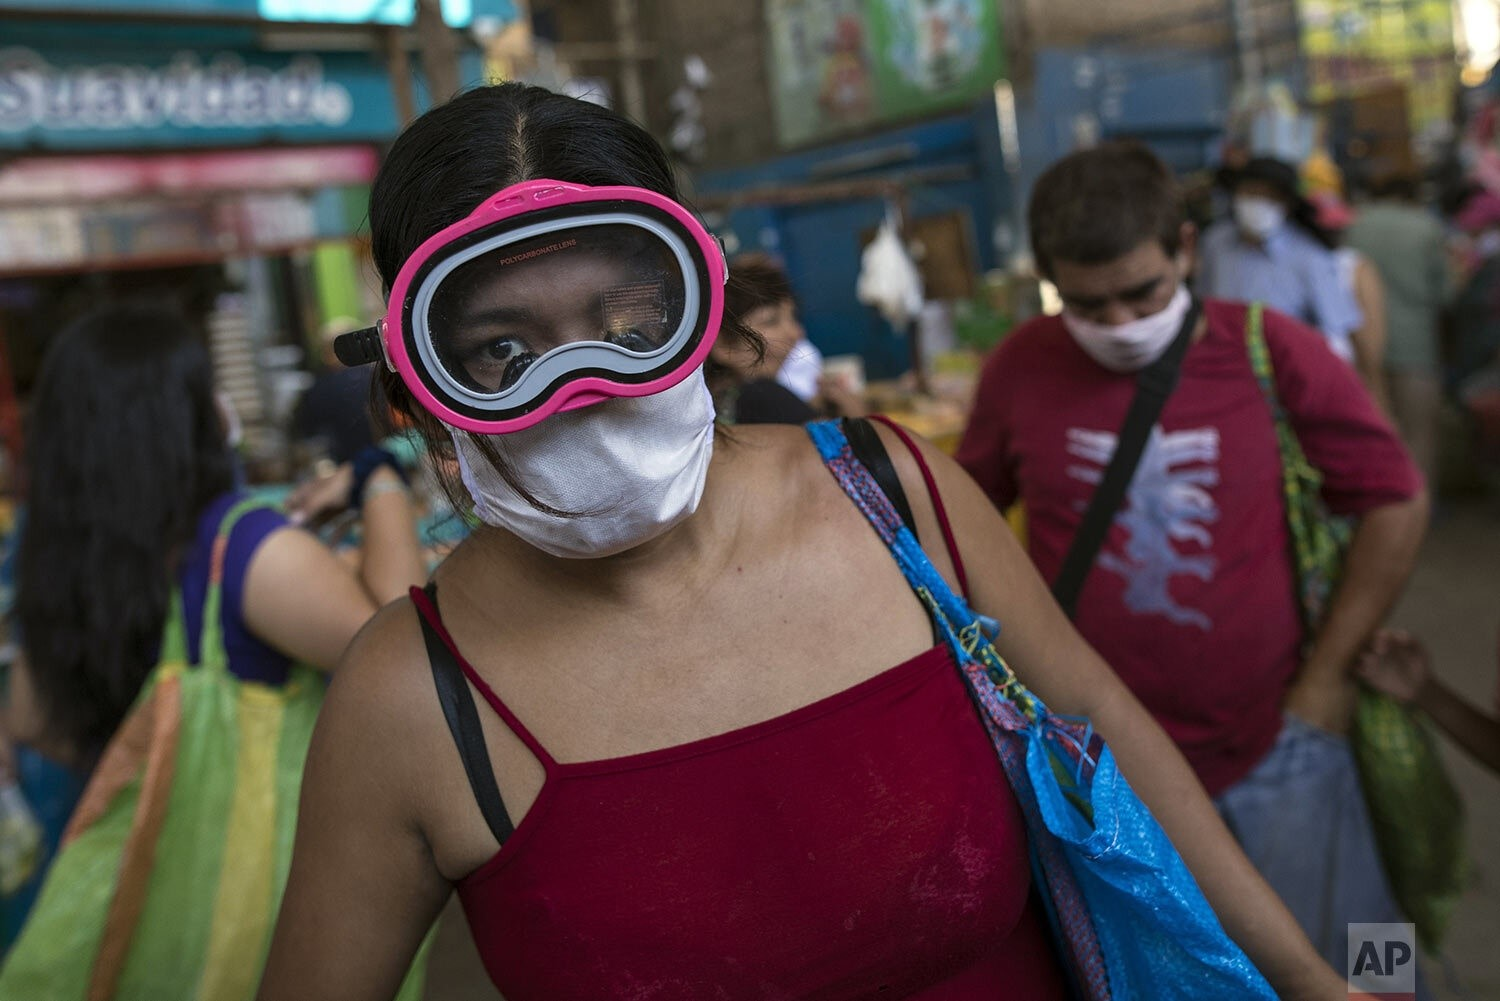face_with_mask: (371, 138, 740, 587), (1026, 187, 1217, 388)
